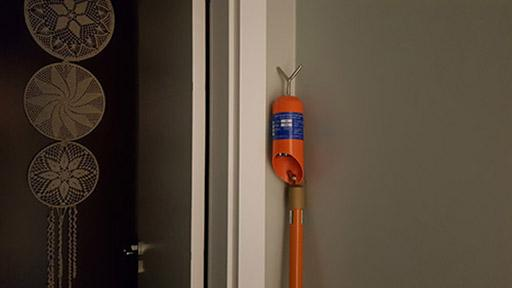Detector_Tensao_Contato: (271, 65, 307, 189)
